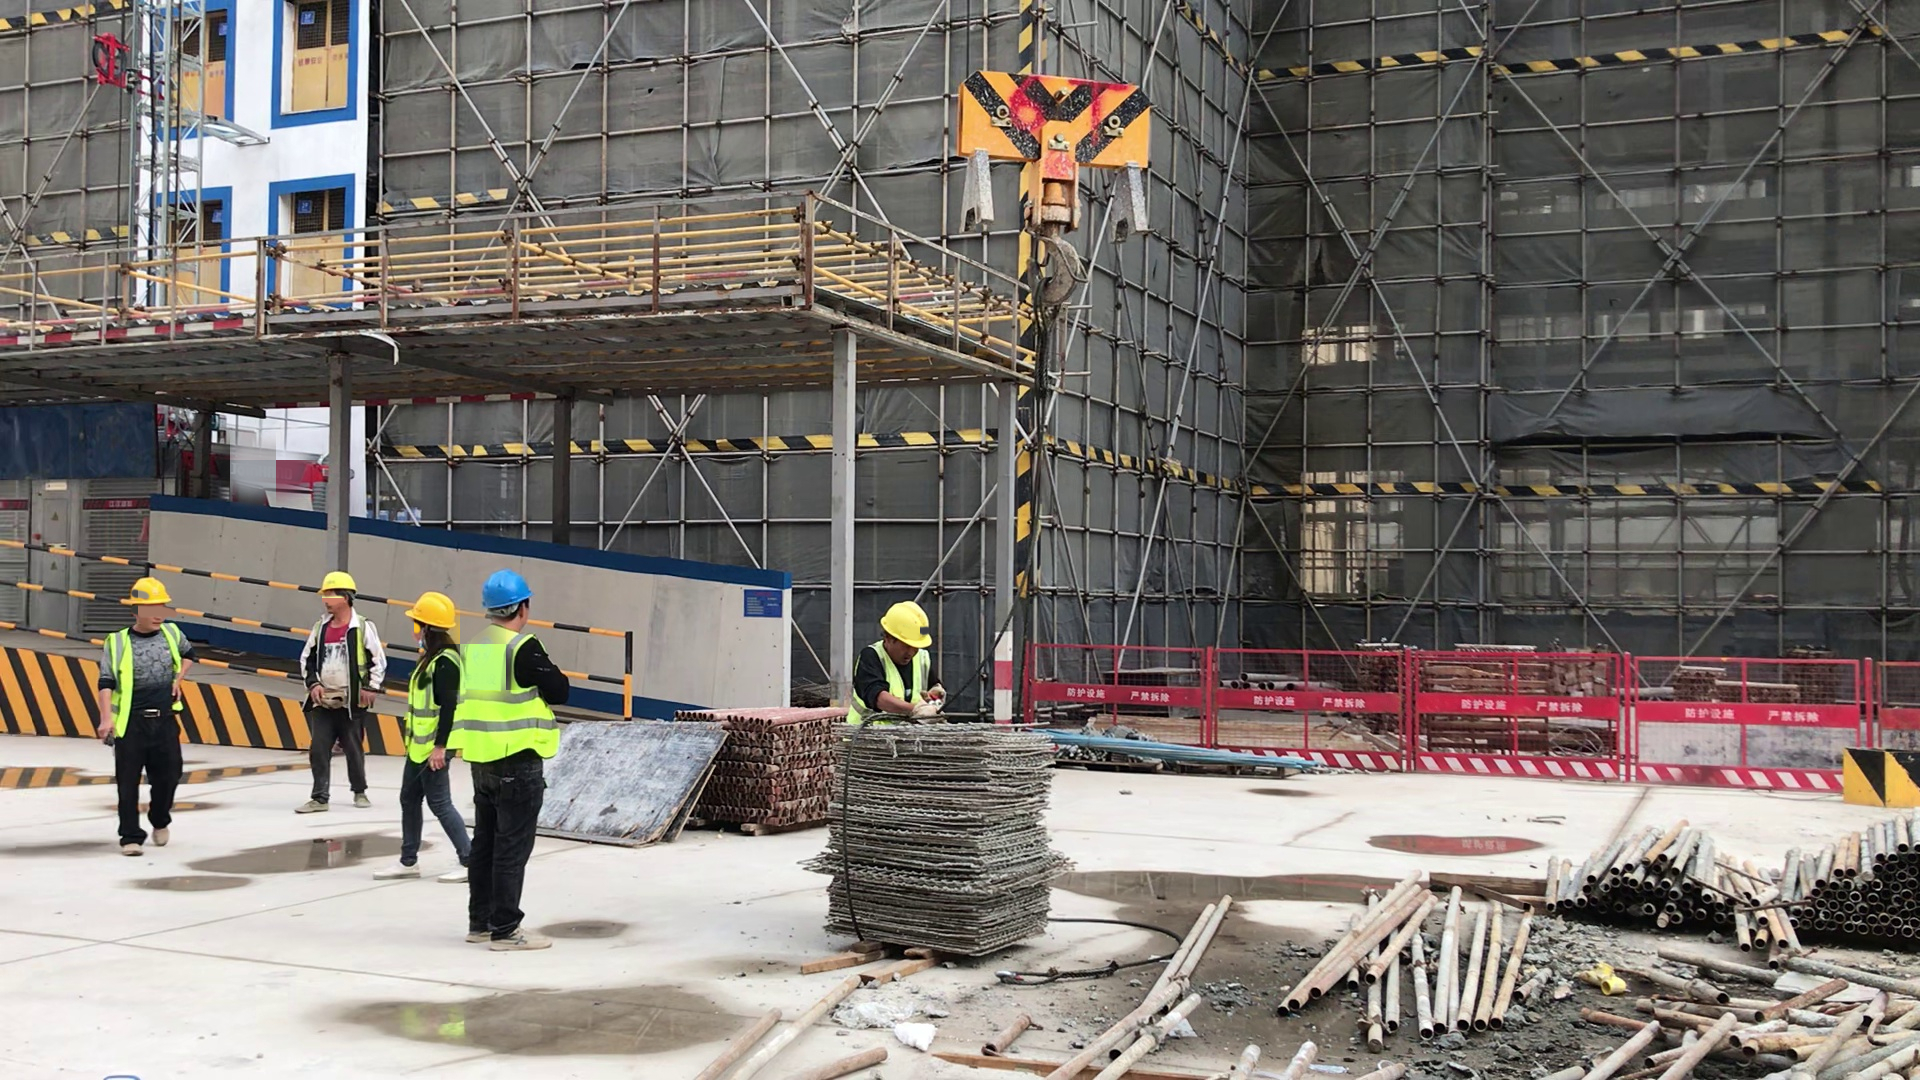fence: (13, 516, 691, 748), (1023, 628, 1920, 795)
helmet: (475, 565, 536, 620), (884, 599, 933, 658), (400, 585, 458, 630), (125, 570, 182, 609), (317, 566, 362, 598)
hook: (947, 65, 1175, 263)
person: (475, 564, 585, 957), (92, 568, 210, 869), (291, 561, 385, 823), (401, 591, 481, 895), (844, 598, 955, 723)
scaffold: (1279, 868, 1544, 1053), (1544, 816, 1752, 959), (665, 699, 832, 851), (1774, 794, 1920, 953)
vest: (462, 622, 569, 769), (106, 622, 191, 745), (849, 633, 934, 730), (307, 605, 383, 708), (406, 647, 455, 775)
